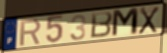3: (70, 13, 87, 41)
5: (45, 13, 64, 45)
B: (89, 11, 114, 40)
M: (110, 6, 140, 38)
R: (19, 18, 43, 47)
X: (137, 6, 161, 36)
